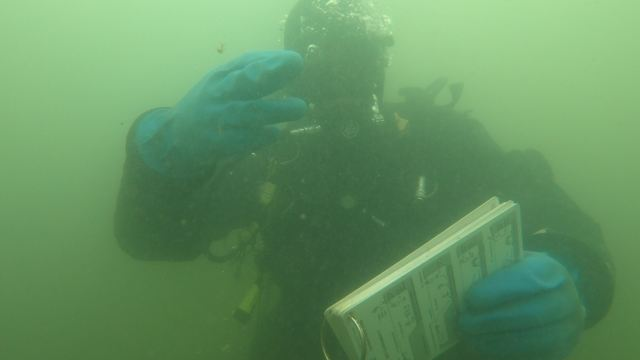Diver: (102, 3, 623, 356)
Hand: (133, 33, 319, 167), (452, 238, 589, 351)
Head: (270, 3, 411, 161)
